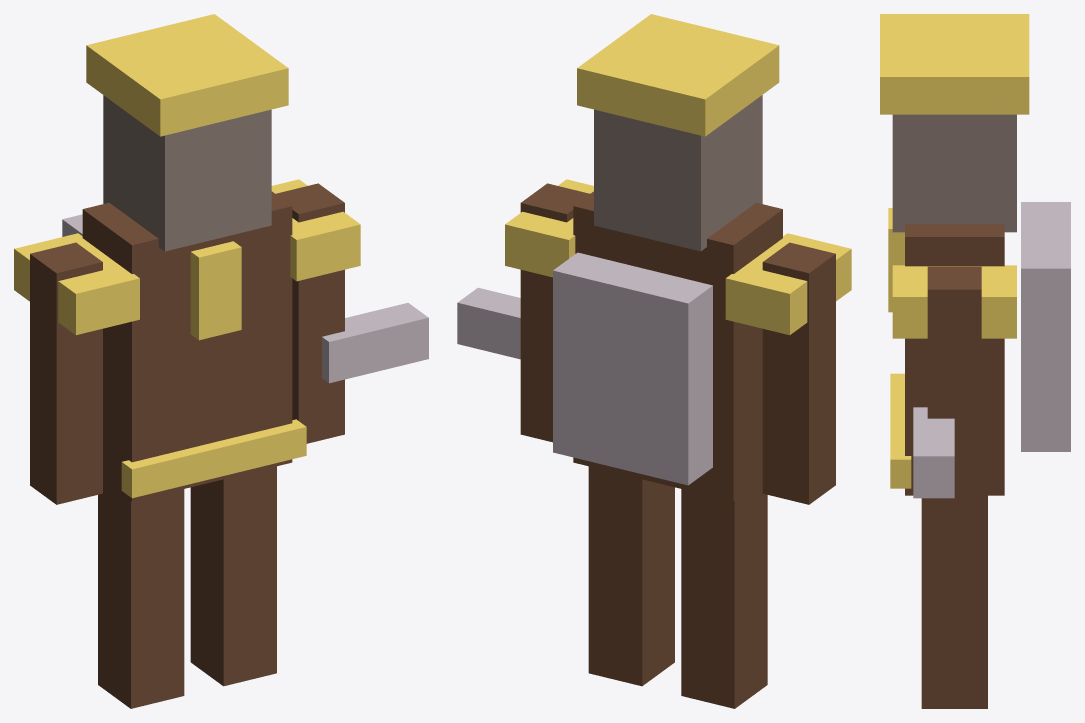
Rendered from 19_ren_glassroot_ranger_from_foundry.glb.
3 renders of one model, left to right at view 1: azimuth 30°, elevation 25°; view 2: azimuth 150°, elevation 25°; view 3: azimuth 270°, elevation 25°, orthographic.
Parts seen in each view (by area): view 1: Ren Glassroot, Ranger from Foundry; view 2: Ren Glassroot, Ranger from Foundry; view 3: Ren Glassroot, Ranger from Foundry.
Boxes of the visible parts, x1=… form: Ren Glassroot, Ranger from Foundry: x1=14, y1=14, x2=428, y2=708; Ren Glassroot, Ranger from Foundry: x1=457, y1=14, x2=851, y2=708; Ren Glassroot, Ranger from Foundry: x1=880, y1=14, x2=1070, y2=708.
Bounding box in the file's own units: 1.01 × 1.65 × 0.4537.
